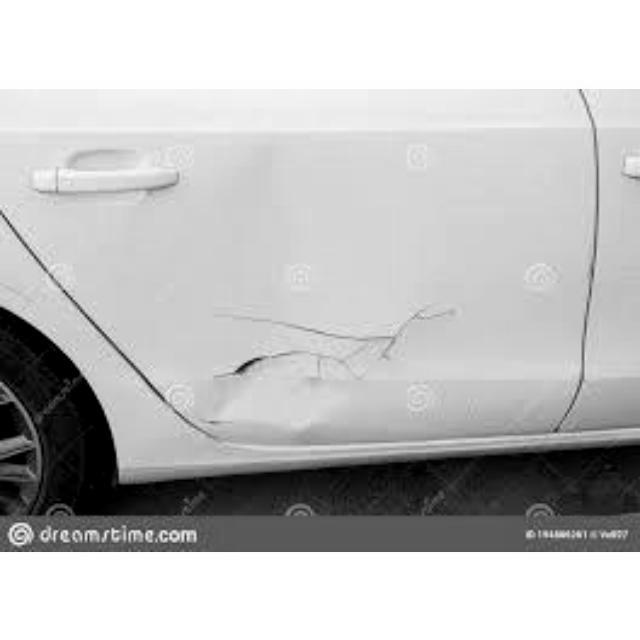doorouter-dent: (3, 88, 572, 434)
